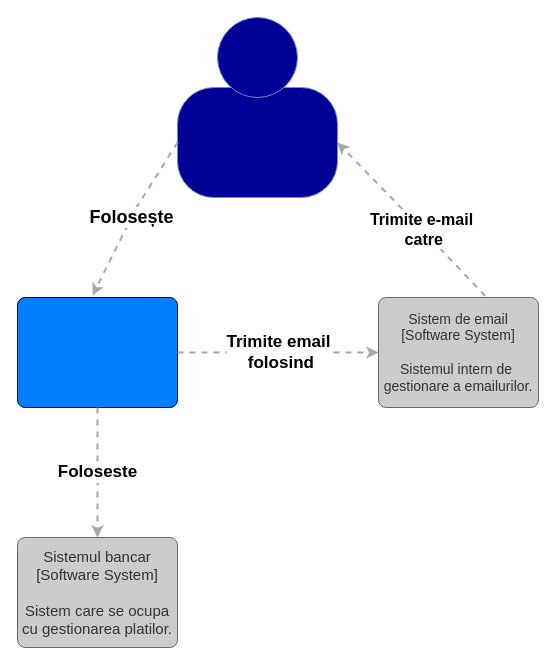
The diagram is 556 pixels wide and 665 high, and some of its shapes have lost their labels. The shapes that lost their labels are listed below. From the top down, each one's box as (x1, y1, x2, y2) in pixels, then its label:
(176, 86, 338, 198): Client [Person] Un client al cinema-ului, cu un cont pe aplicatie
(16, 296, 178, 408): Sistem de gestionare [Software System] Permite clientilor
